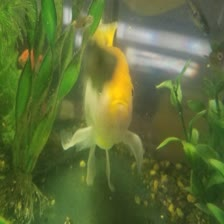Cuezo: (60, 29, 144, 196)
